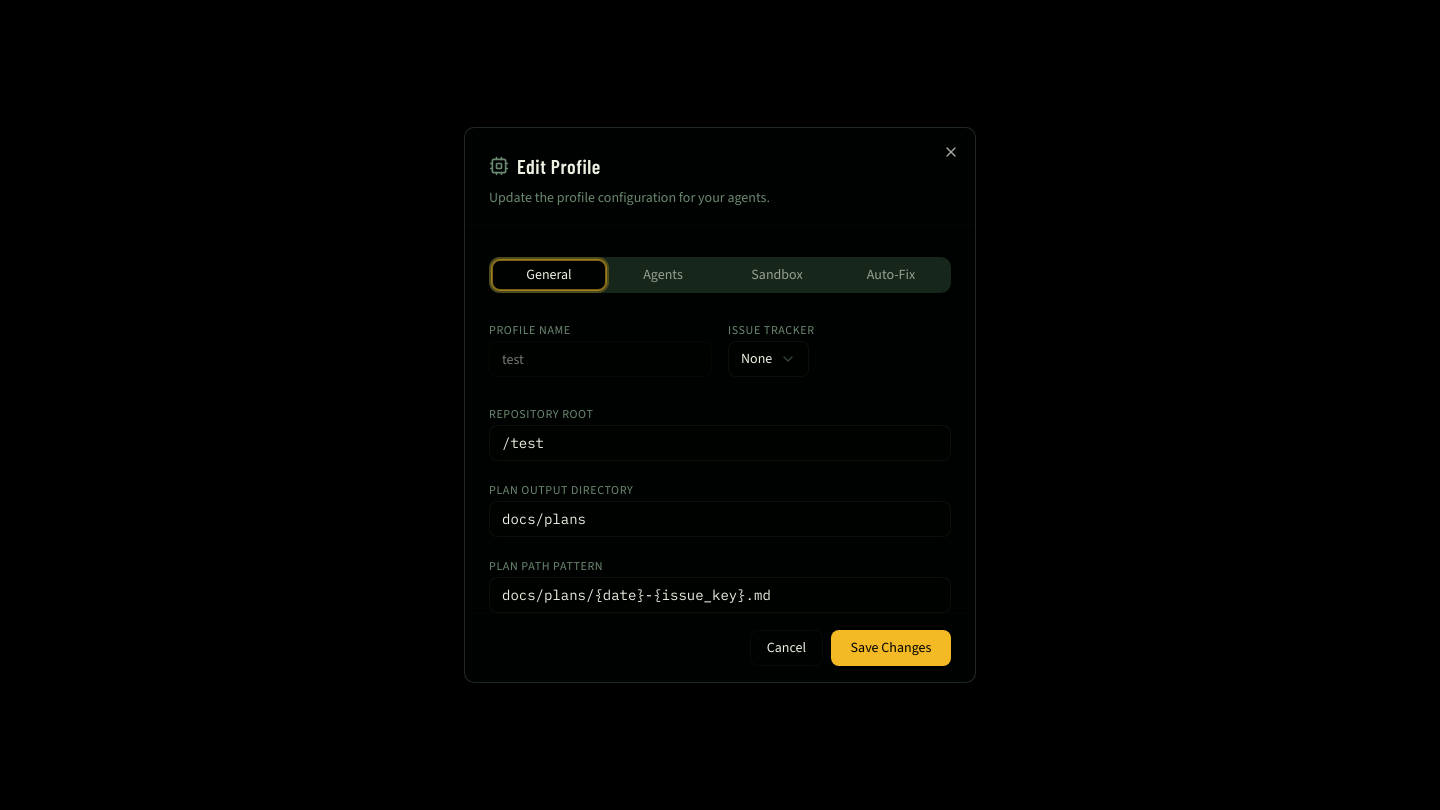
Test: HostChipInput via Sandbox tab › should add a host when clicking Add button
The width and height of the screenshot is (1440, 810).
Click the tab "Sandbox" at [777, 275], box [720,260,834,290]
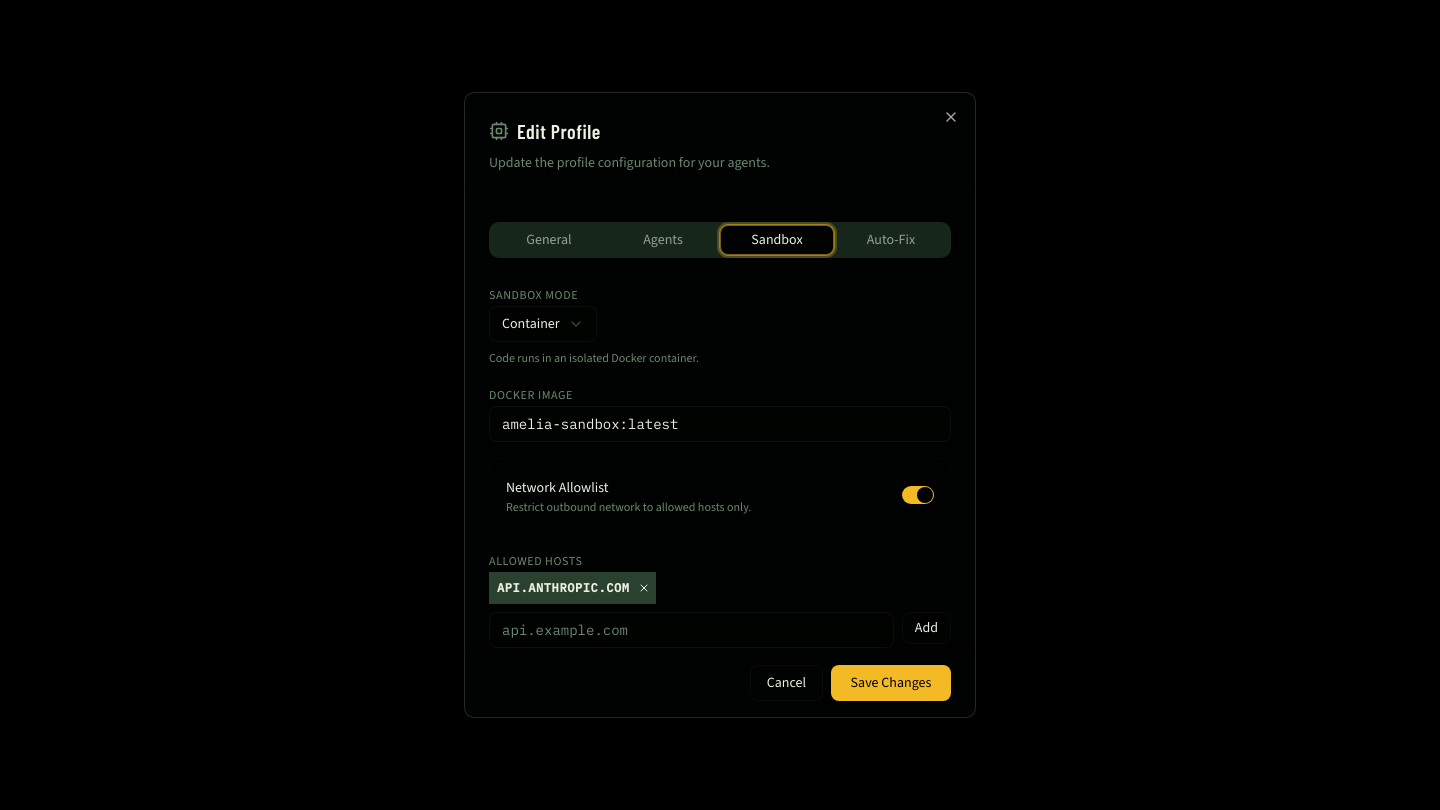
Type "github.com" into the field with placeholder "api.example.com" at [691, 630], box [489,612,894,648]
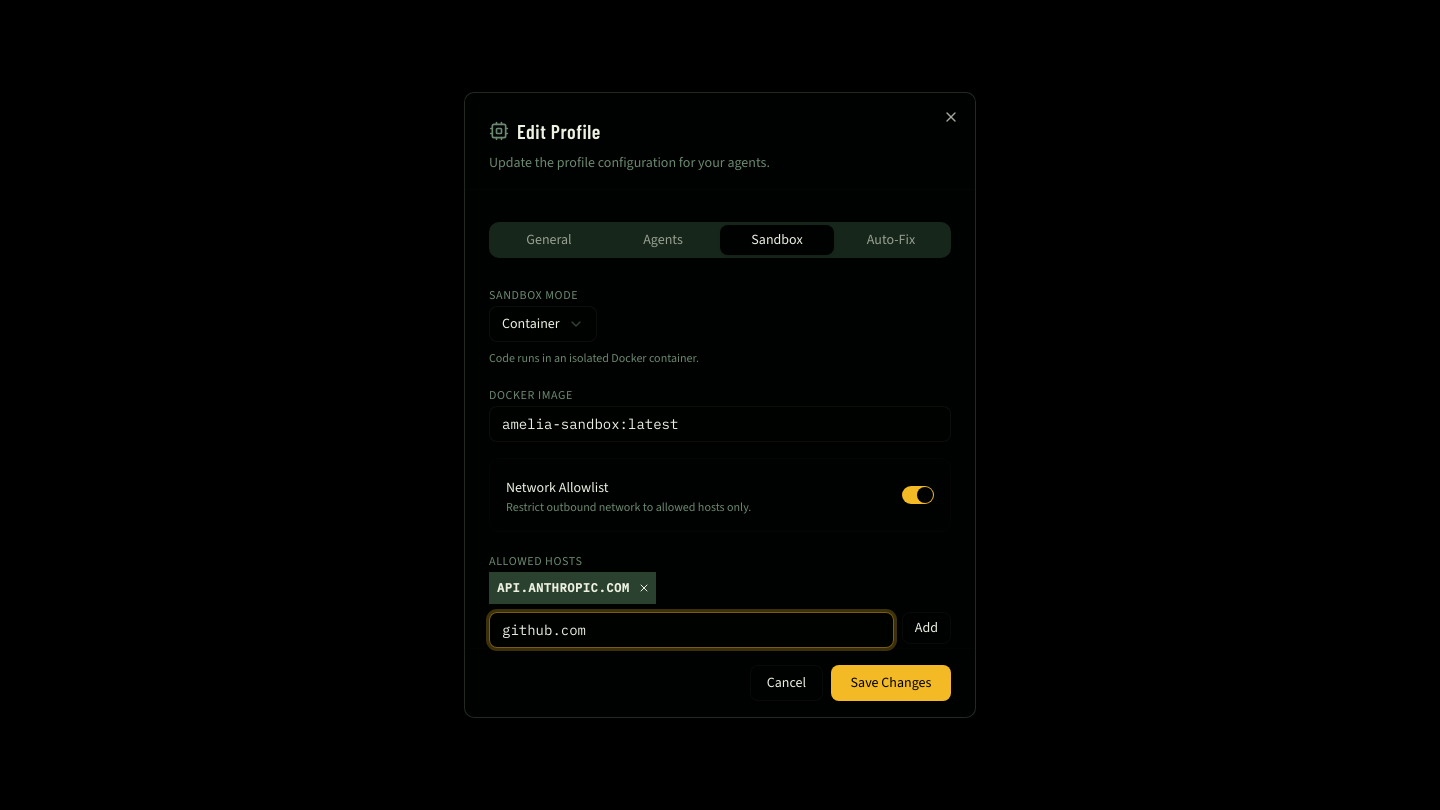
Click the button "Add" at [926, 628], box [902,612,951,644]
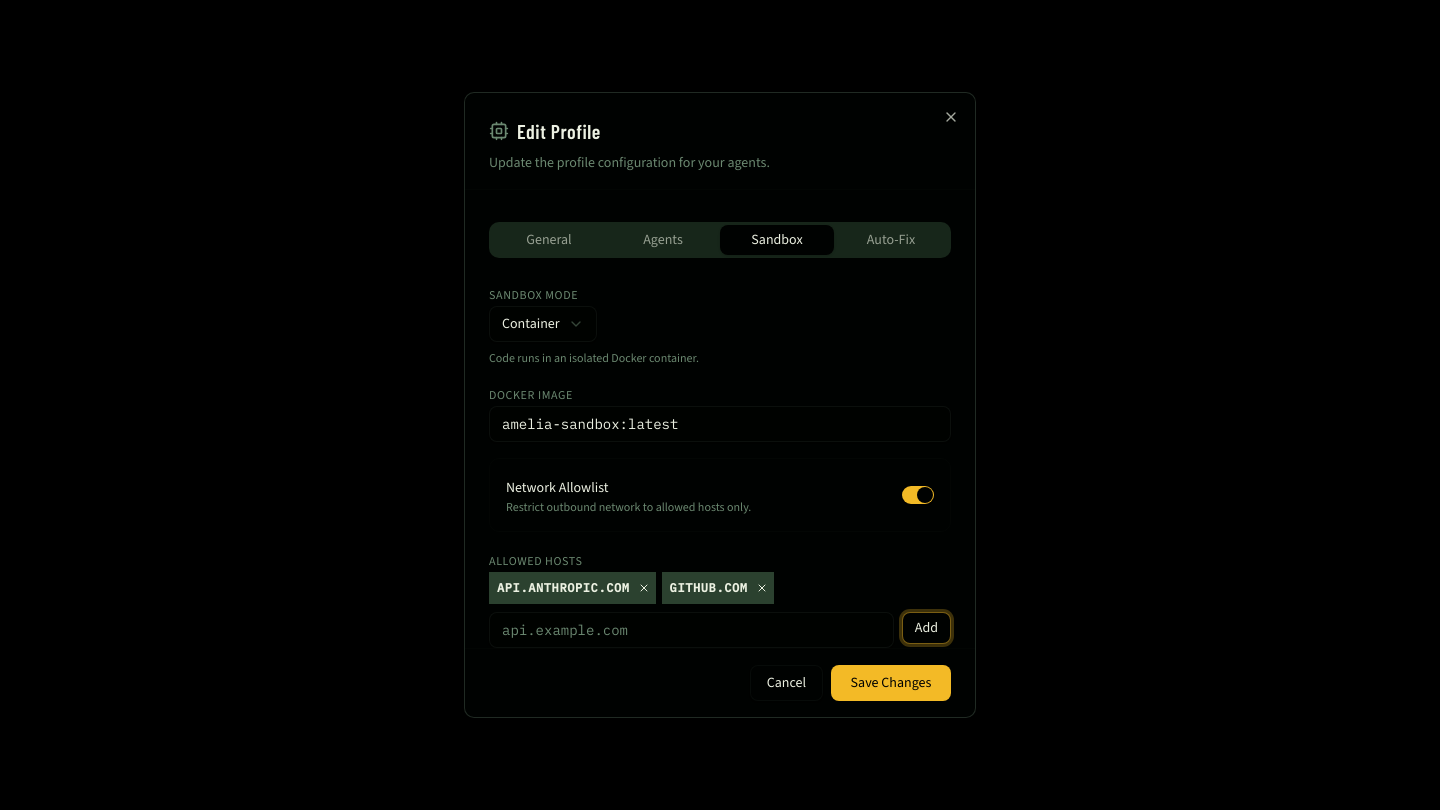
Expected: the text "github.com" is shown, [662,572,774,604]
